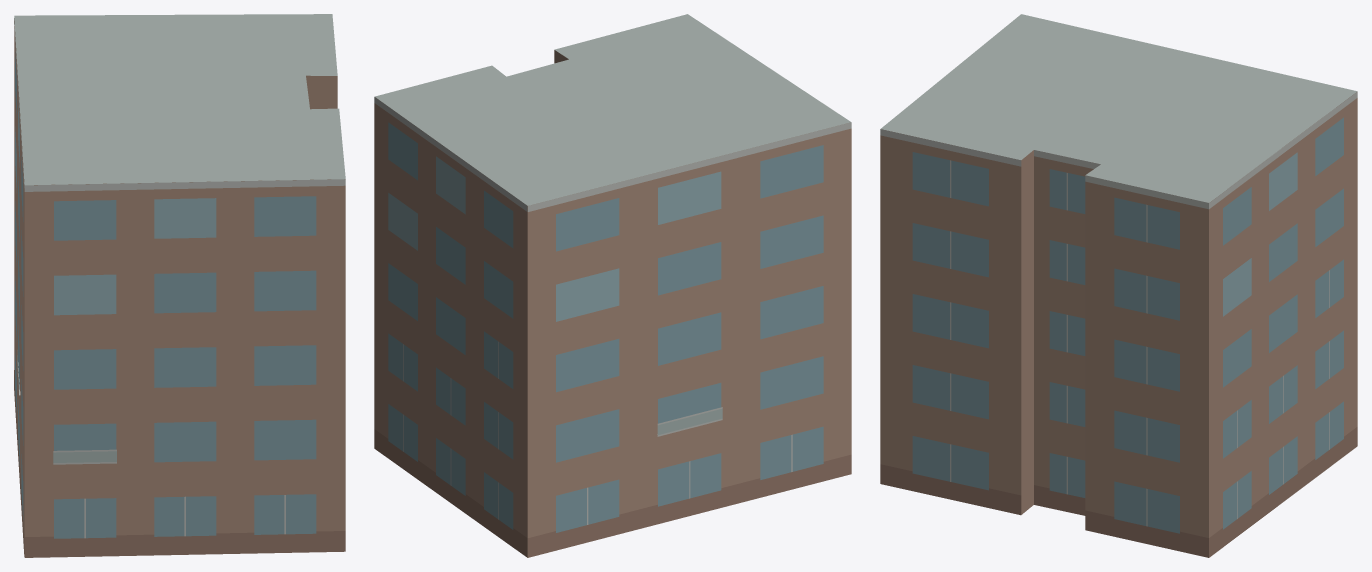
Rendered from survey-upis-32846934.glb.
3 renders of one model, left to right at view 1: azimuth 30°, elevation 25°; view 2: azimuth 150°, elevation 25°; view 3: azimuth 270°, elevation 25°, orthographic. The views are drawn at different scales.
Parts seen in each view (by area): view 1: survey-upis-32846934.tmp; view 2: survey-upis-32846934.tmp; view 3: survey-upis-32846934.tmp.
Boxes of the visible parts, x1=… form: survey-upis-32846934.tmp: x1=14, y1=14, x2=345, y2=557; survey-upis-32846934.tmp: x1=374, y1=14, x2=851, y2=557; survey-upis-32846934.tmp: x1=880, y1=14, x2=1357, y2=557.
Bounding box in the file's own units: 15.54 × 13.6 × 16.58.
